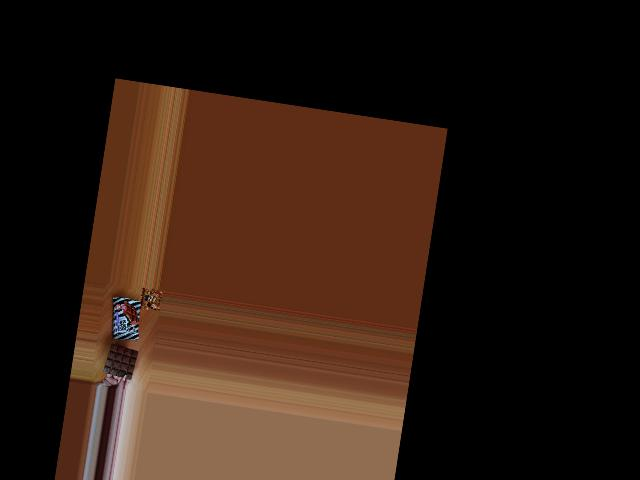chocolate: (107, 294, 143, 343)
